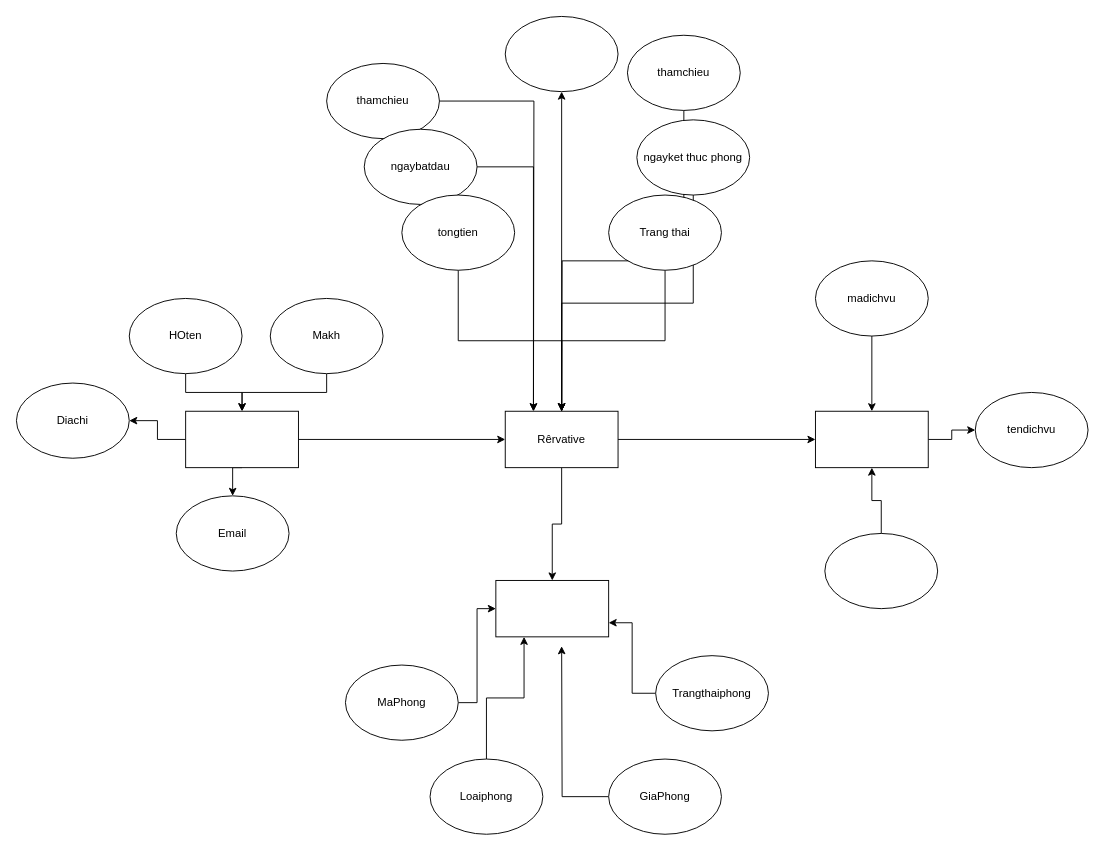
Some shapes in this 1105 by 851 pixel diagram are drawn without their labels. Each missing label, with the centre of its shape:
Guét: point (241, 439)
madatphong: point (561, 54)
Rôm: point (552, 608)
Servece: point (871, 439)
